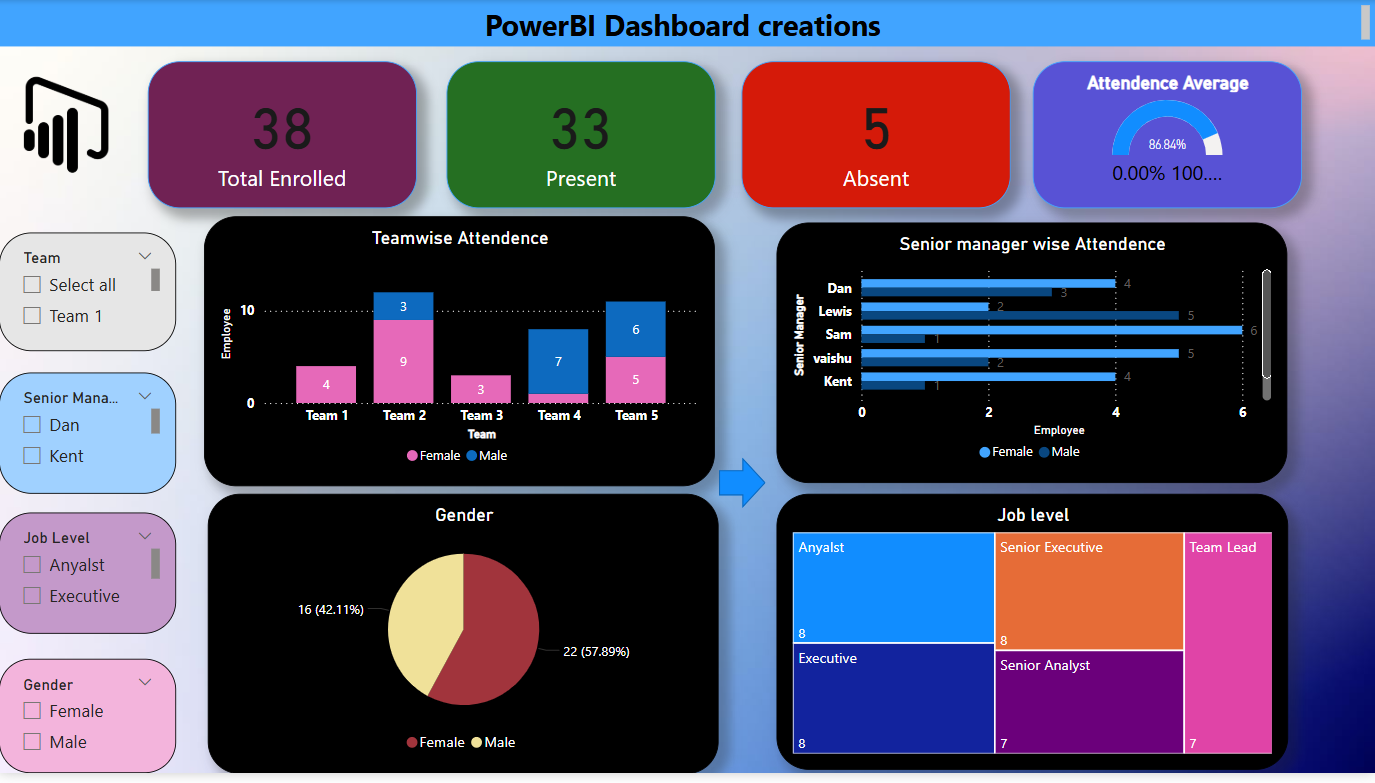

This screenshot's page, from the dashboard's own definition file:
{"tool":"powerbi","page":{"name":"Page 2","canvas":[1280,720],"ordinal":1},"visuals":[{"type":"card","fields":{"Values":["Data.Please enter your Employee ID:"]},"box":[138.2,56.6,250,136.8],"z":0},{"type":"card","fields":{"Values":["Data.Please enter your Employee ID:"]},"box":[415.8,56.6,250,136.8],"z":1000},{"type":"card","fields":{"Values":["Data.Please enter your Employee ID:"]},"box":[690.8,56.6,250,136.8],"z":2000},{"type":"gauge","title":"Attendence Average","fields":{"Y":["Data.Attendance Status"]},"box":[961.8,56.6,250,136.8],"z":3000},{"type":"columnChart","title":"Teamwise Attendence","fields":{"Series":["Data.Gender"],"Category":["Data.Team"],"Y":["Data.Please enter your Employee ID:"]},"box":[190.8,201.3,475,251.3],"z":4000},{"type":"clusteredBarChart","title":"Senior manager wise Attendence","fields":{"Series":["Data.Gender"],"Y":["Data.Please enter your Employee ID:"],"Category":["Data.Senior Manager"]},"box":[723.7,206.6,475,242.1],"z":5000},{"type":"pieChart","title":"Gender","fields":{"Category":["Data.Gender"],"Y":["Data.Please enter your Employee ID:"]},"box":[194.2,459.3,475.6,260.5],"z":6000},{"type":"treemap","title":"Job level","fields":{"Group":["Data.Job Level"],"Values":["Data.Please enter your Employee ID:"]},"box":[723.7,459.2,476.3,256.6],"z":7000},{"type":"slicer","fields":{"Values":["Data.Team"]},"box":[0,215.8,164.5,110.5],"z":8000},{"type":"slicer","fields":{"Values":["Data.Gender"]},"box":[0,613.2,164.5,106.6],"z":9000},{"type":"slicer","fields":{"Values":["Data.Job Level"]},"box":[0,476.3,164.5,113.2],"z":10000},{"type":"slicer","fields":{"Values":["Data.Senior Manager"]},"box":[0,346.1,164.5,113.2],"z":11000},{"type":"image","box":[0,56.6,123.7,117.1],"z":12000},{"type":"shape","box":[669.6,425.9,43.4,47.1],"z":13000},{"type":"textbox","box":[0,0,1280,43.4],"z":14000}]}

Visuals, with their boxes in screenshot pixels (x1, y1, x2, y2), scaled from the page's 1280x720 canvas onto the 1375x783 screenshot:
card - Data.Please enter your Employee ID:: <bbox>148, 62, 417, 210</bbox>
card - Data.Please enter your Employee ID:: <bbox>447, 62, 715, 210</bbox>
card - Data.Please enter your Employee ID:: <bbox>742, 62, 1011, 210</bbox>
"Attendence Average" gauge: <bbox>1033, 62, 1302, 210</bbox>
"Teamwise Attendence" columnChart: <bbox>205, 219, 715, 492</bbox>
"Senior manager wise Attendence" clusteredBarChart: <bbox>777, 225, 1288, 488</bbox>
"Gender" pieChart: <bbox>209, 499, 720, 782</bbox>
"Job level" treemap: <bbox>777, 499, 1289, 778</bbox>
slicer - Data.Team: <bbox>0, 235, 177, 355</bbox>
slicer - Data.Gender: <bbox>0, 667, 177, 782</bbox>
slicer - Data.Job Level: <bbox>0, 518, 177, 641</bbox>
slicer - Data.Senior Manager: <bbox>0, 376, 177, 499</bbox>
image: <bbox>0, 62, 133, 189</bbox>
shape: <bbox>719, 463, 766, 514</bbox>
textbox: <bbox>0, 0, 1374, 47</bbox>
